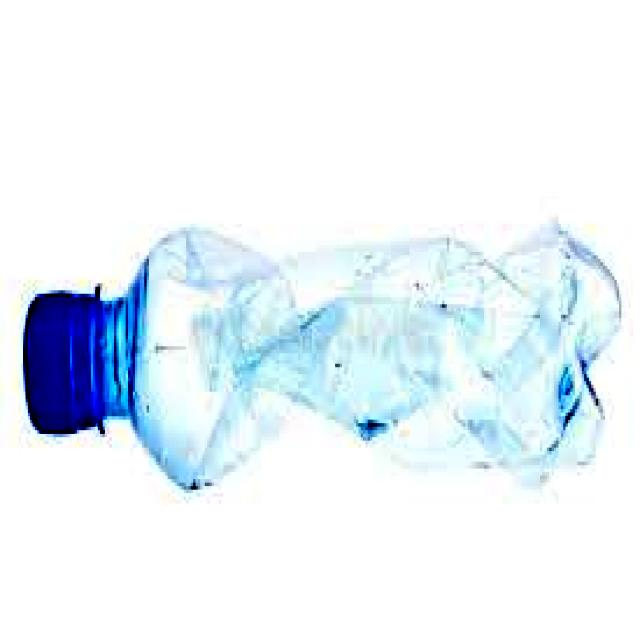Plastic: (21, 225, 622, 507)
